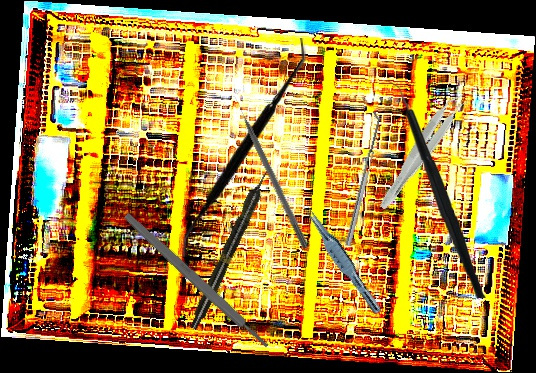Chopper: (380, 78, 486, 300)
Handpiece: (186, 166, 275, 332)
Pusher: (231, 93, 311, 250)
Scalpel Handle: (121, 210, 272, 352)
Spatula Surgical: (178, 38, 306, 257), (339, 111, 384, 247)
Tissue Forceps: (374, 88, 472, 216), (296, 201, 388, 316)
